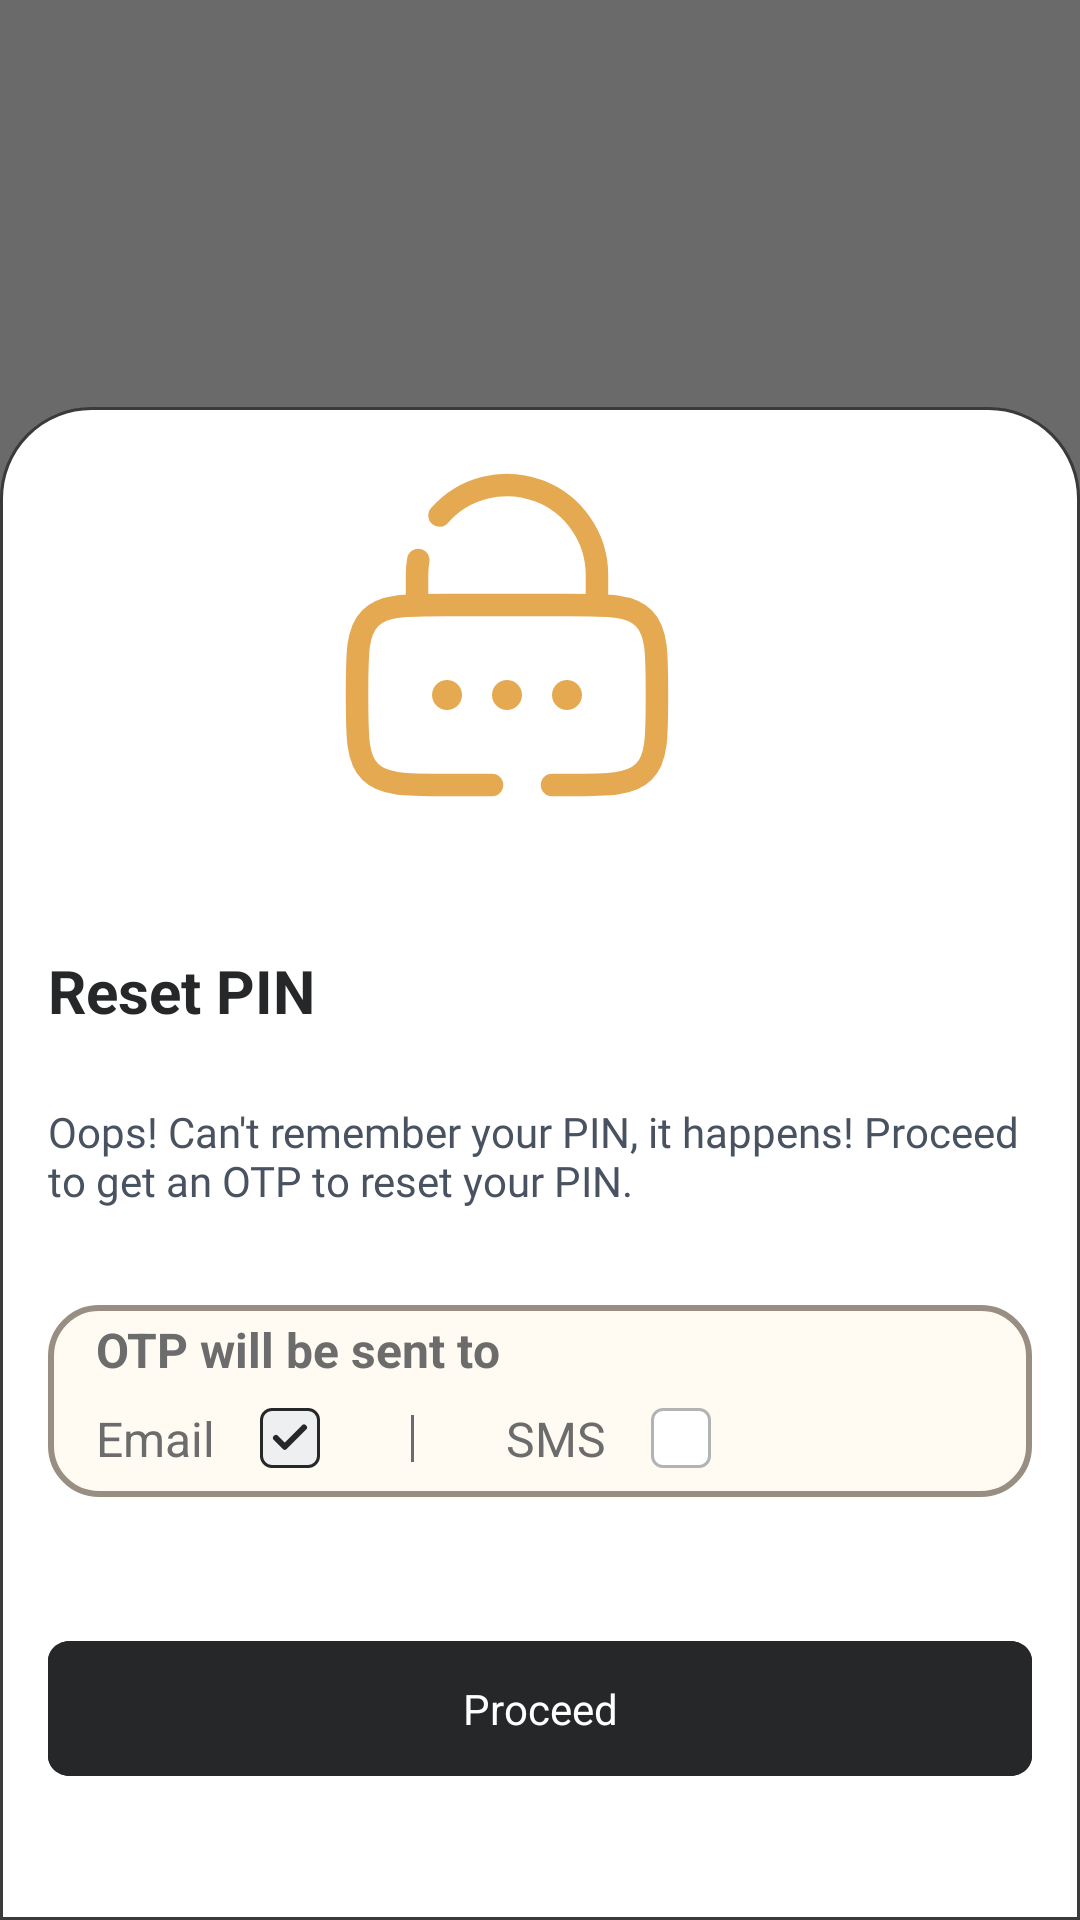

Named icons in this screenshot (1080 × 1920) and their centers, (x=x, y=y):
checkbox: (x=290, y=1438), (x=681, y=1438)
lockwithdot: (x=507, y=635)
